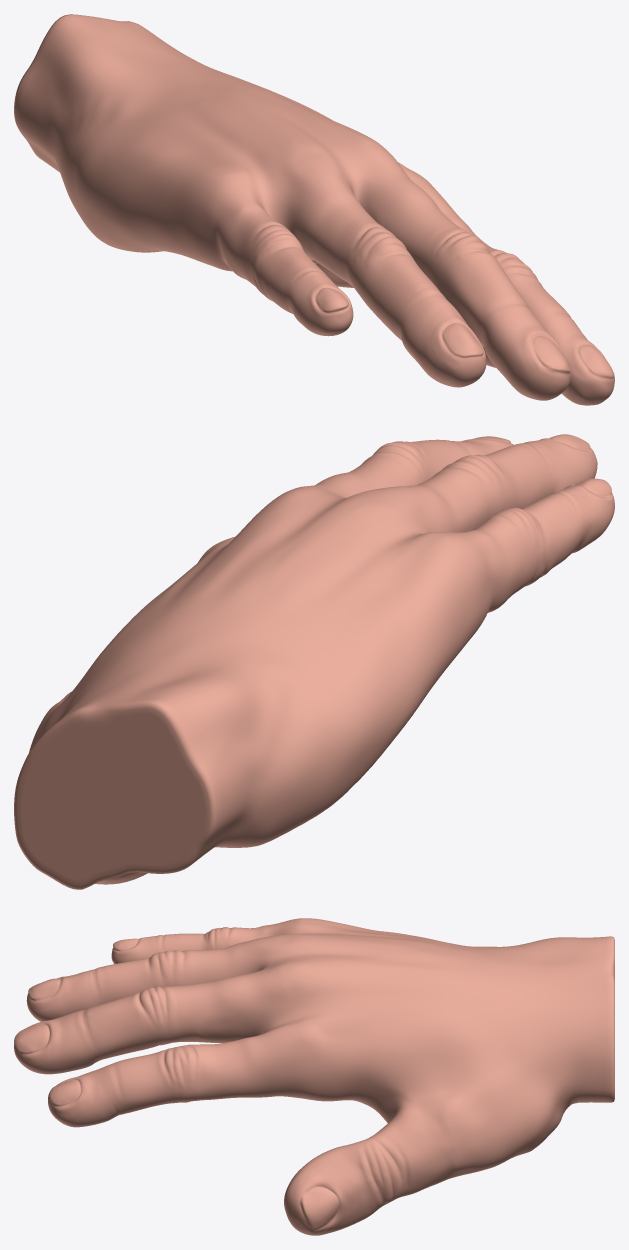
The model's file is hand.fbx.
3 renders of one model, top to bottom at view 1: azimuth 30°, elevation 25°; view 2: azimuth 150°, elevation 25°; view 3: azimuth 270°, elevation 25°, orthographic. The views are drawn at different scales.
Parts seen in each view (by area): view 1: Hand; view 2: Hand; view 3: Hand.
Part boxes in pixels (left/top/right/bottom): Hand: left=14, top=14, right=614, bottom=405; Hand: left=14, top=434, right=614, bottom=889; Hand: left=14, top=918, right=614, bottom=1235.
Size of the model in its own units: 97.98 by 72.15 by 182.
